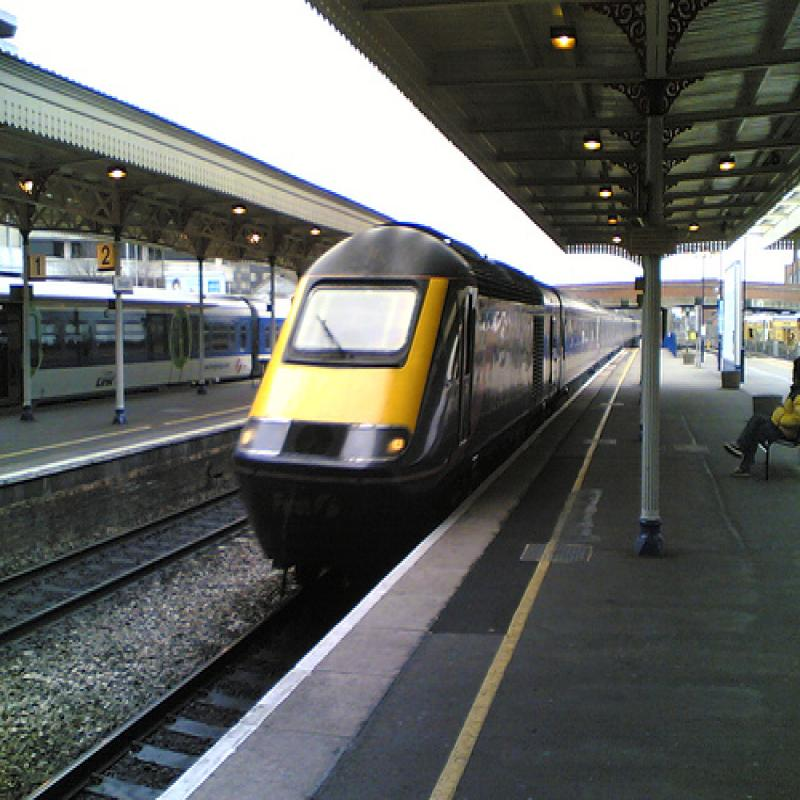train: (214, 210, 646, 613), (3, 272, 297, 398)
